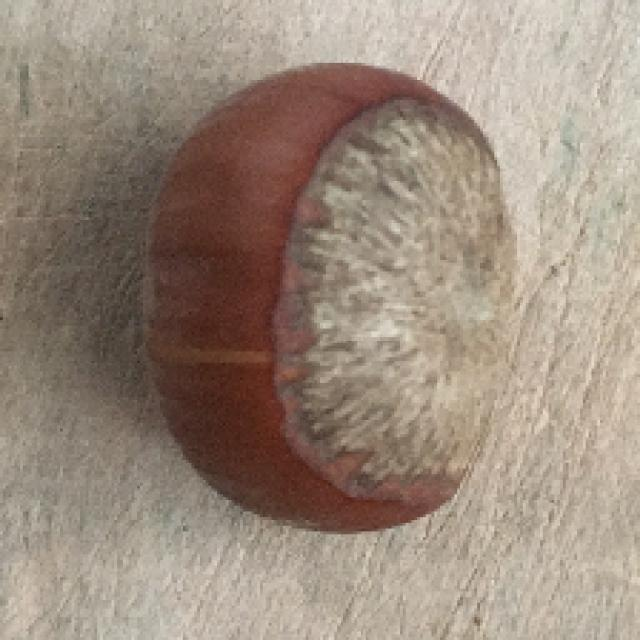QualityHazelnut: (137, 57, 518, 540)
